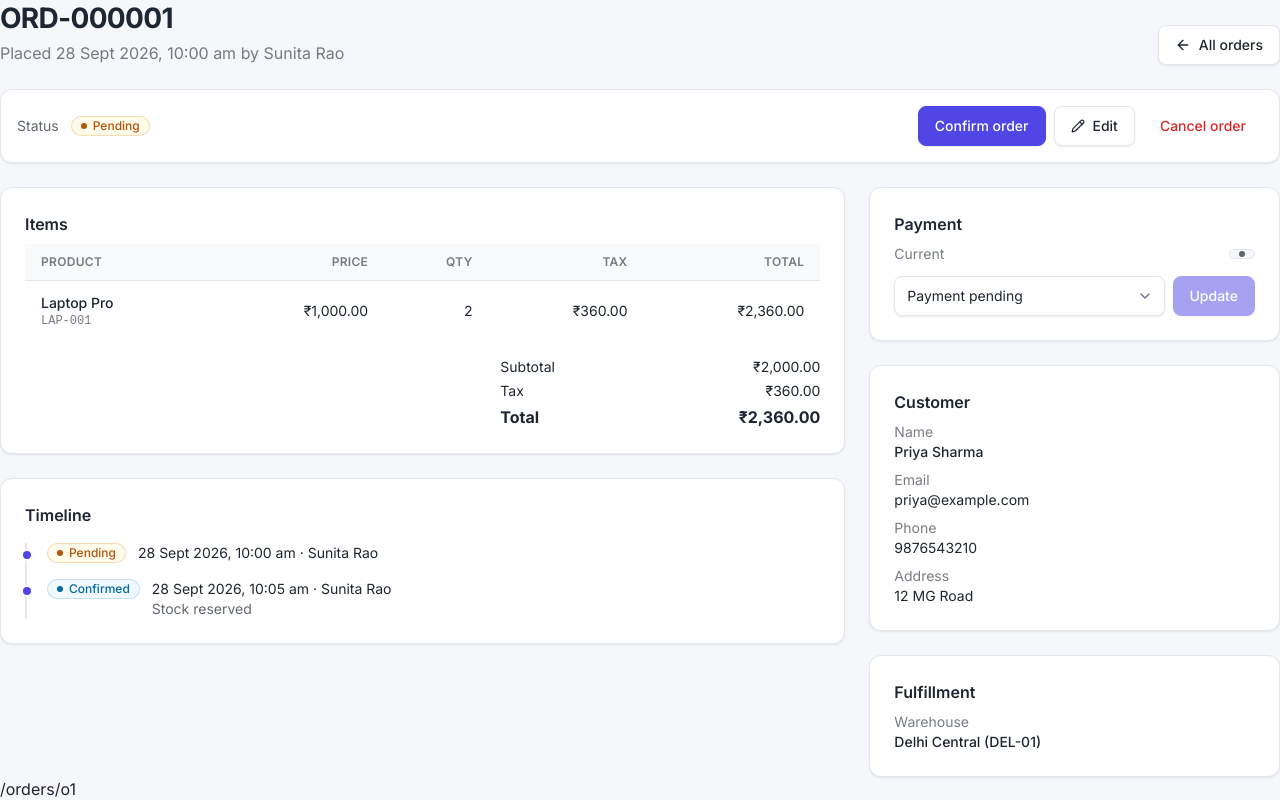
it: OrderDetailPage › confirming shows the server's refusal when stock is short
The image size is (1280, 800).
Click the button with aria-label "Confirm order ORD-000001". click: click(982, 126)
box: top-left (918, 106), bottom-right (1046, 146)
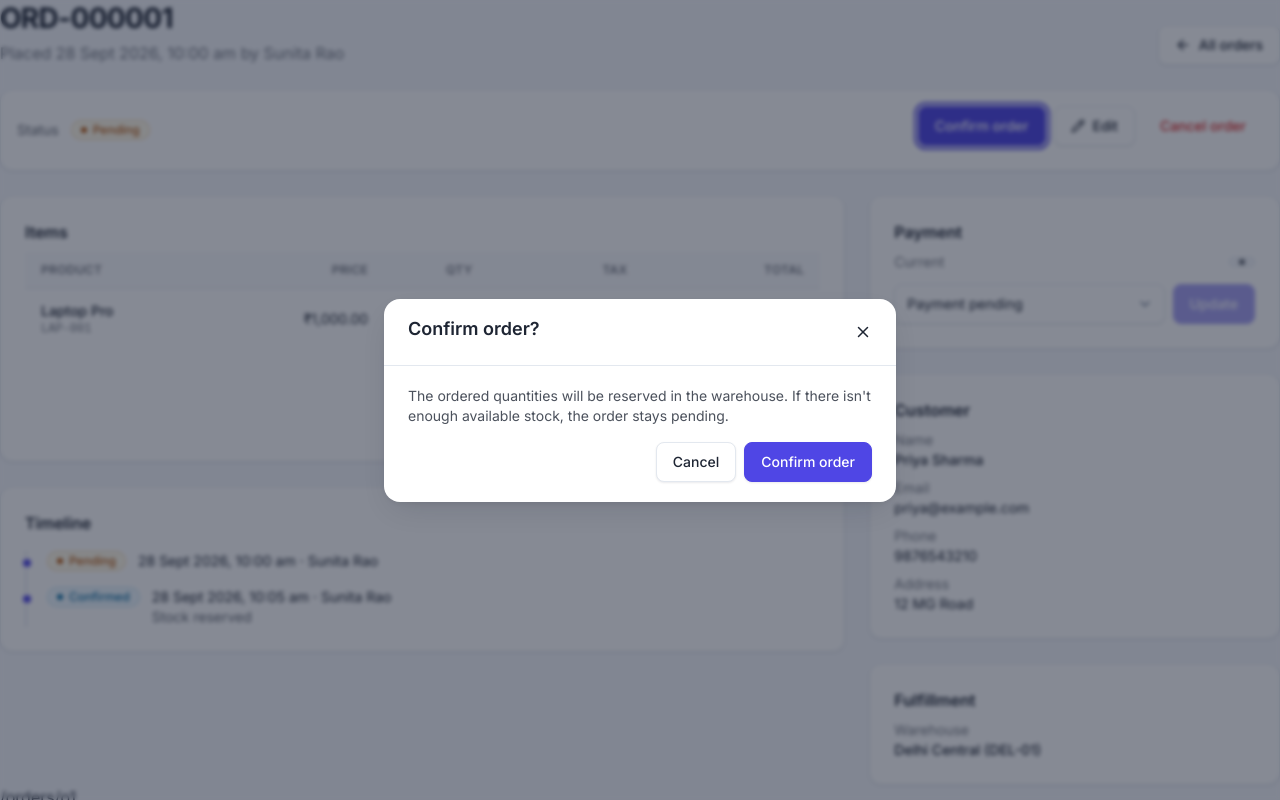
Click the button "Confirm order". click: click(808, 462)
box: top-left (744, 442), bottom-right (872, 482)
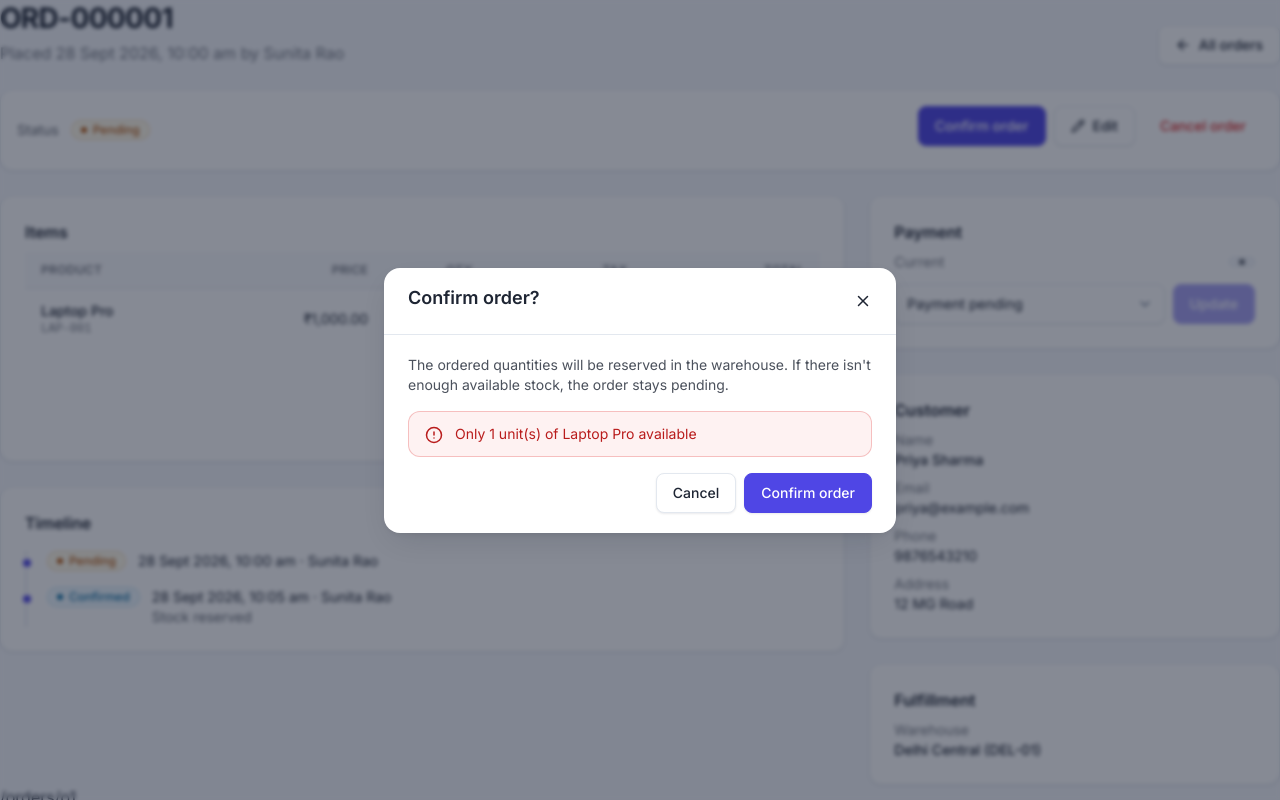
Expected: the dialog is shown
Expected: the text "Only 1 unit(s) of Laptop Pro available" is shown, top-left (455, 424), bottom-right (696, 442)
